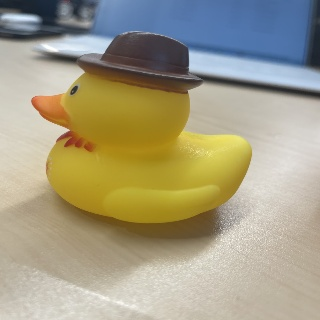duck_specialty: (32, 32, 250, 223)
